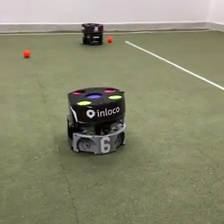ball: (22, 48, 32, 58), (107, 36, 113, 42)
robot: (64, 84, 128, 156), (79, 22, 105, 46)
